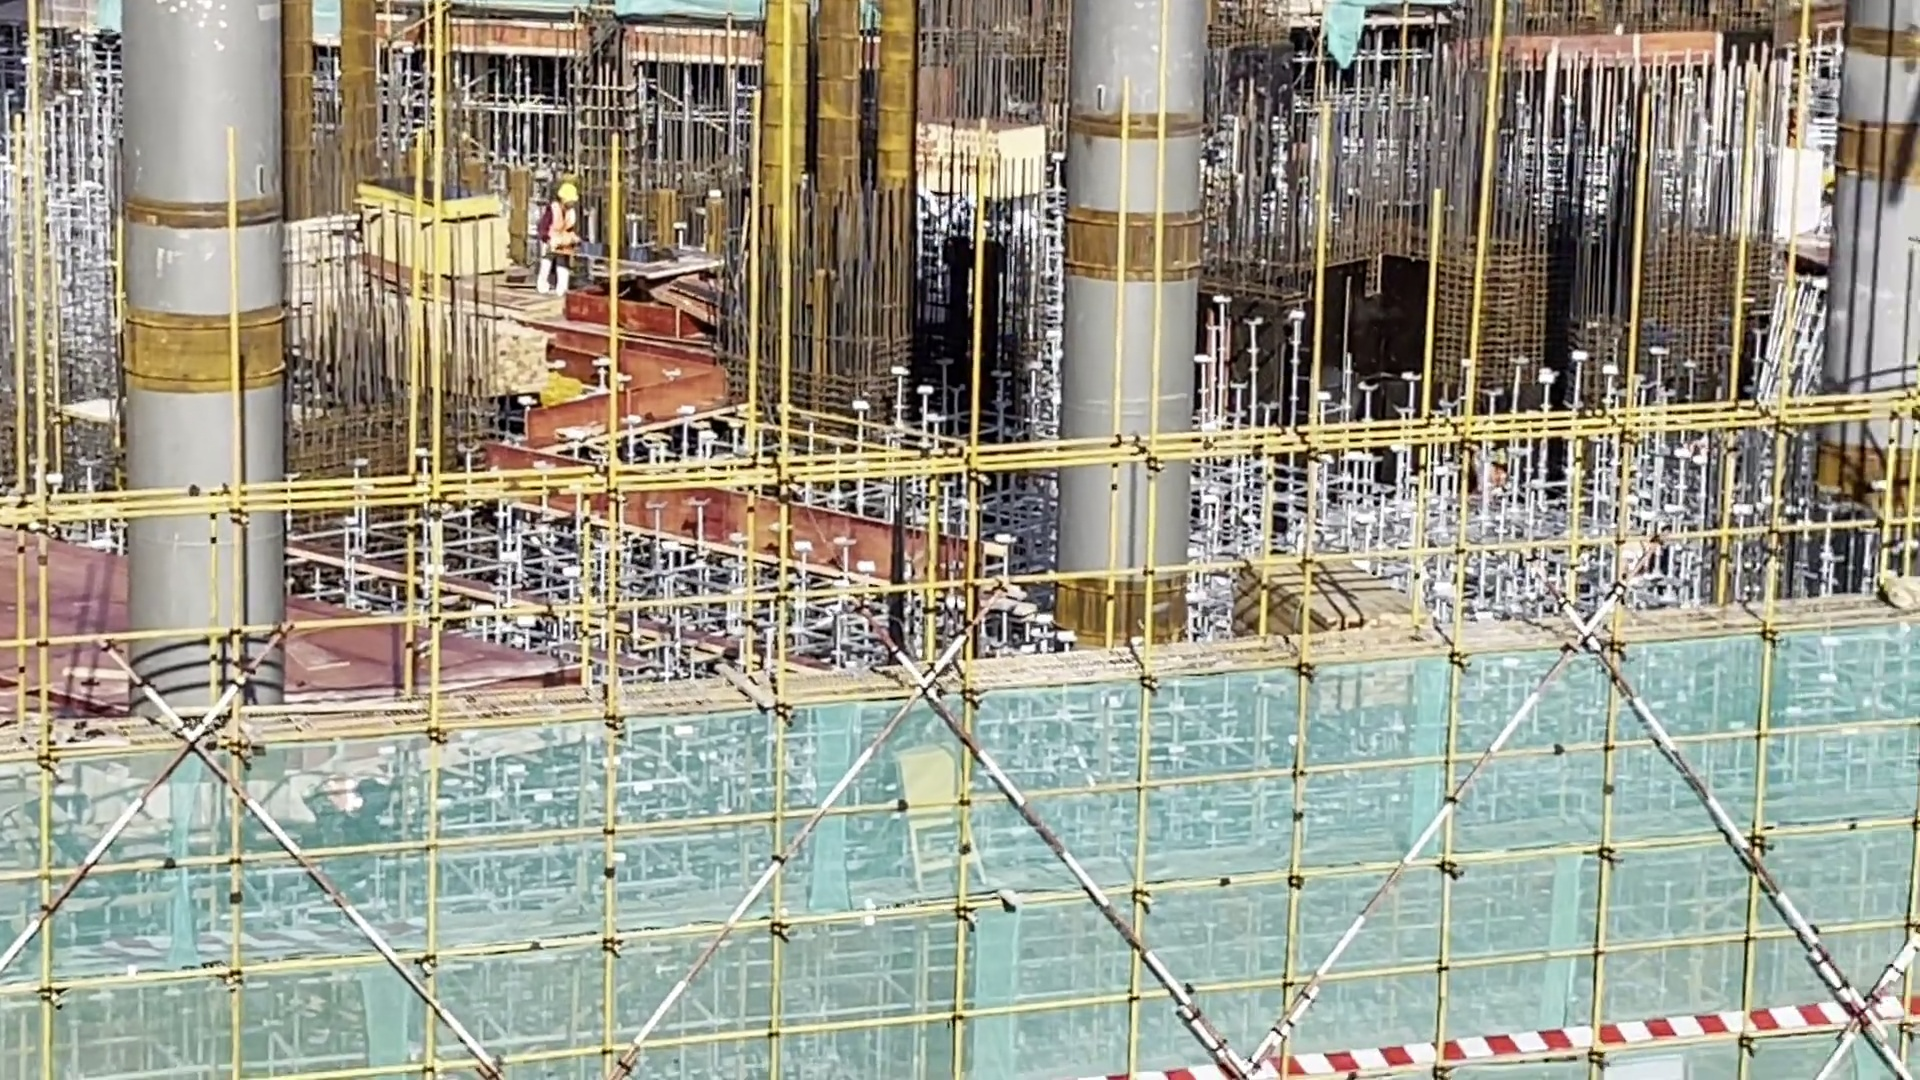ebox: (887, 749, 988, 888)
helmet: (551, 182, 584, 203)
person: (532, 170, 584, 277)
vest: (541, 202, 582, 258)
